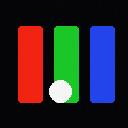2 circle: (49, 80, 71, 102)
